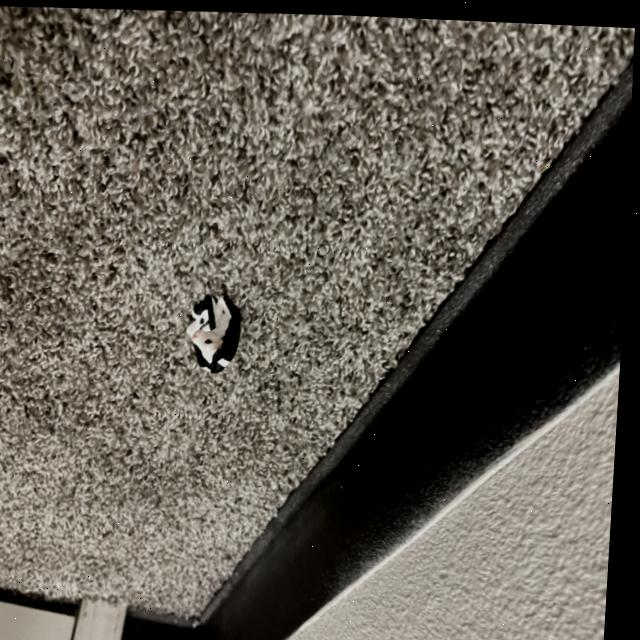cow: (181, 287, 253, 374)
